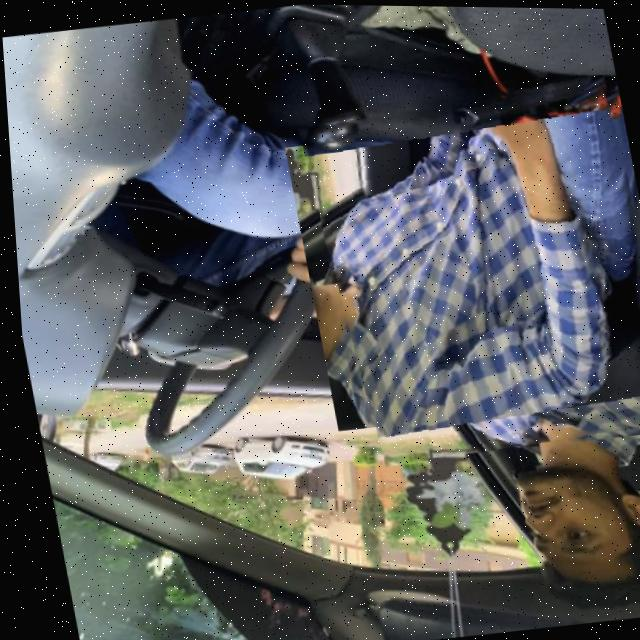no-seatbelt: (297, 72, 640, 466)
